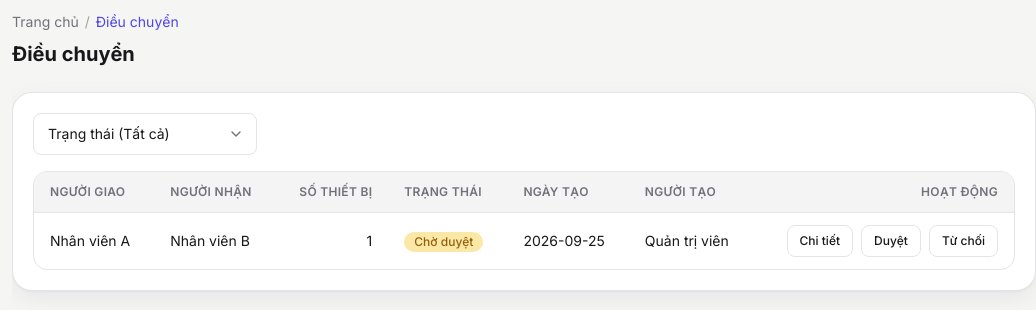
Test: Dọn thùng rác không hiện khi danh sách "Đã xóa" chưa tải xong (còn dòng của bộ lọc cũ)
Expected: the text "Nhân viên A" is shown, [34,212,154,269]
Select "Đã xóa" in the dropdown named "Lọc trạng thái" at (145, 134), box [33,113,257,155]
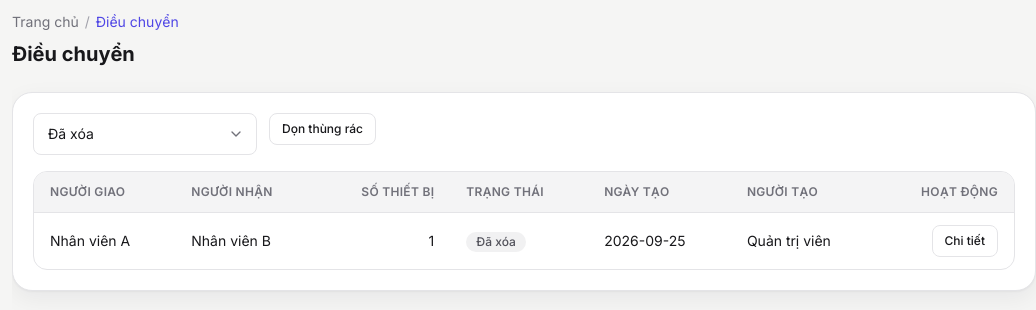
Expected: the text "Nhân viên A" is shown, [34,212,175,269]
Now the button "Dọn thùng rác" is shown, box [269,113,376,145]
